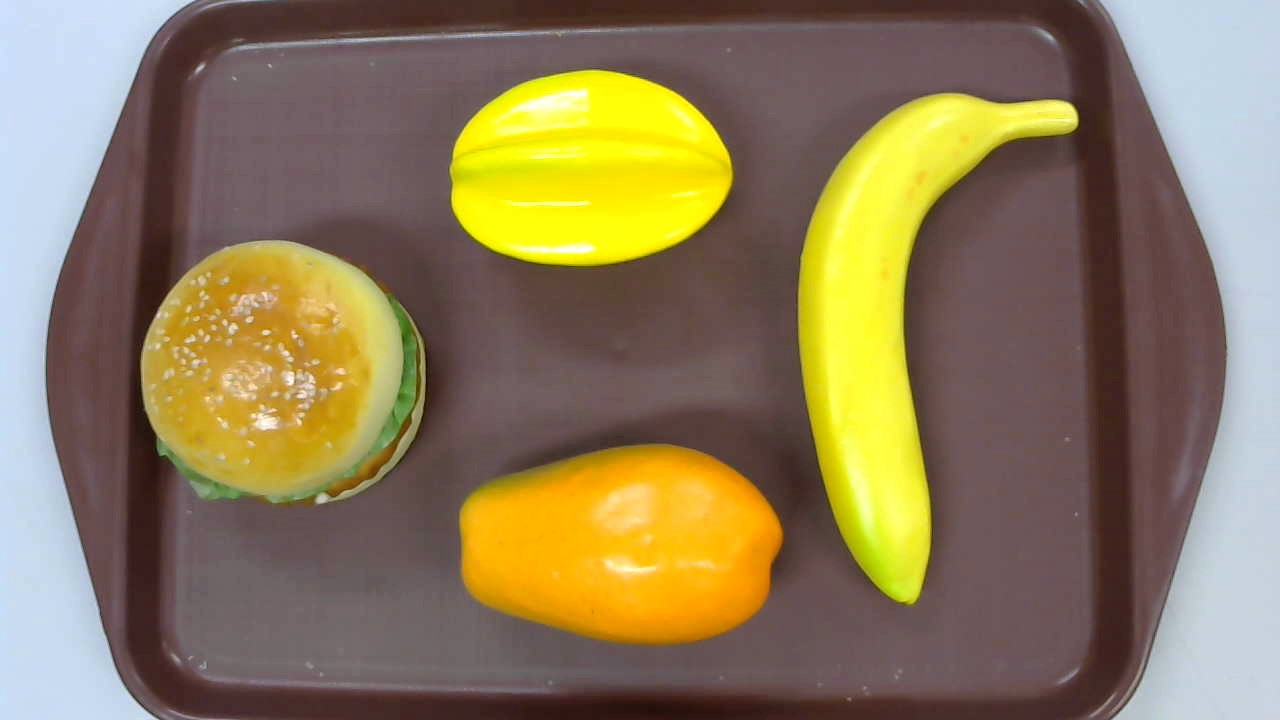banana: (796, 91, 1078, 605)
hamburger: (139, 240, 427, 509)
papaya: (456, 444, 784, 644)
star fruit: (448, 70, 733, 267)
